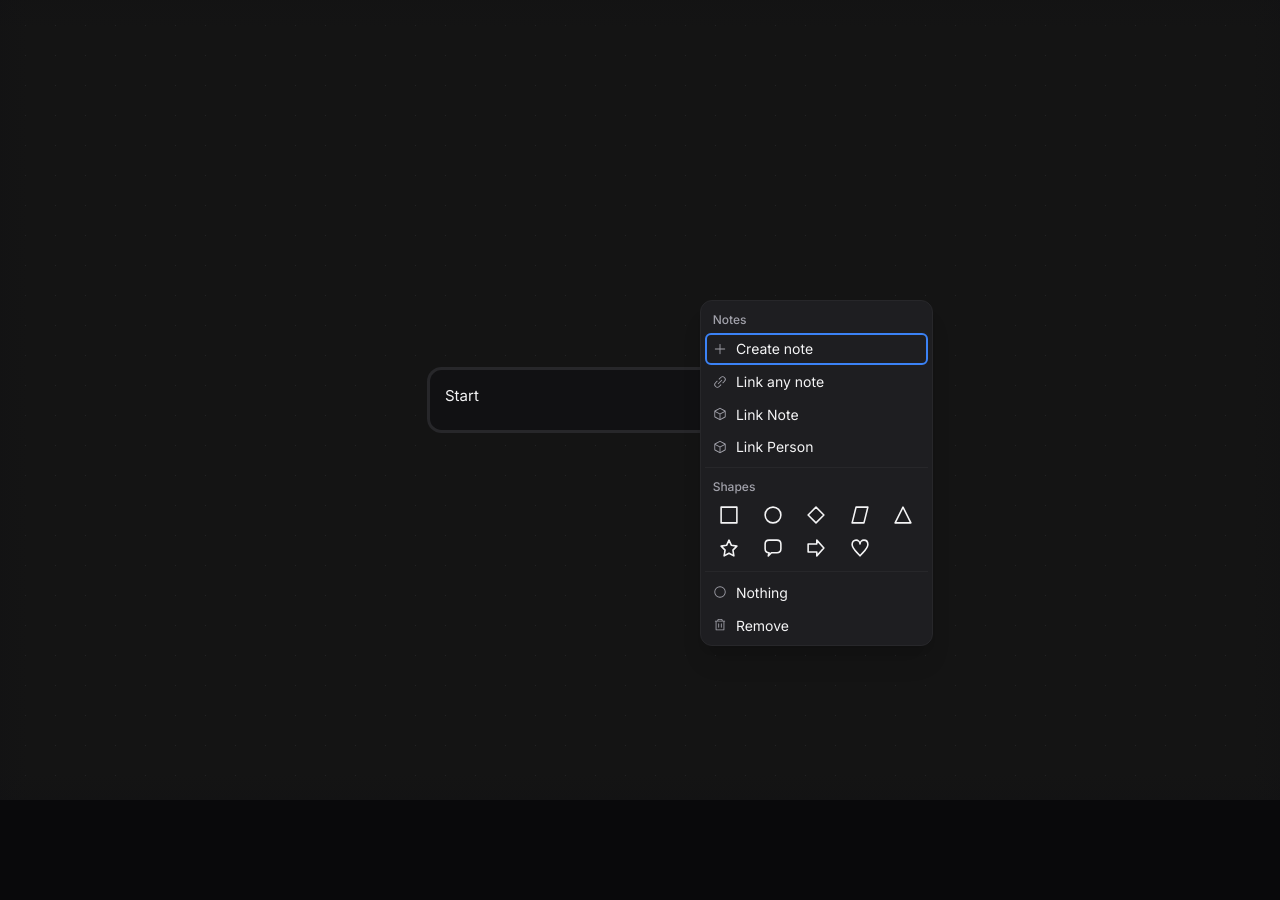
Test: quick-create on a connector drop › test link typed lists only that type and connects the pick
The width and height of the screenshot is (1280, 900).
Later steps or results of the test are not shown.
Click the menu item "Link Person".
click(816, 447)  # box [705,430,928,463]
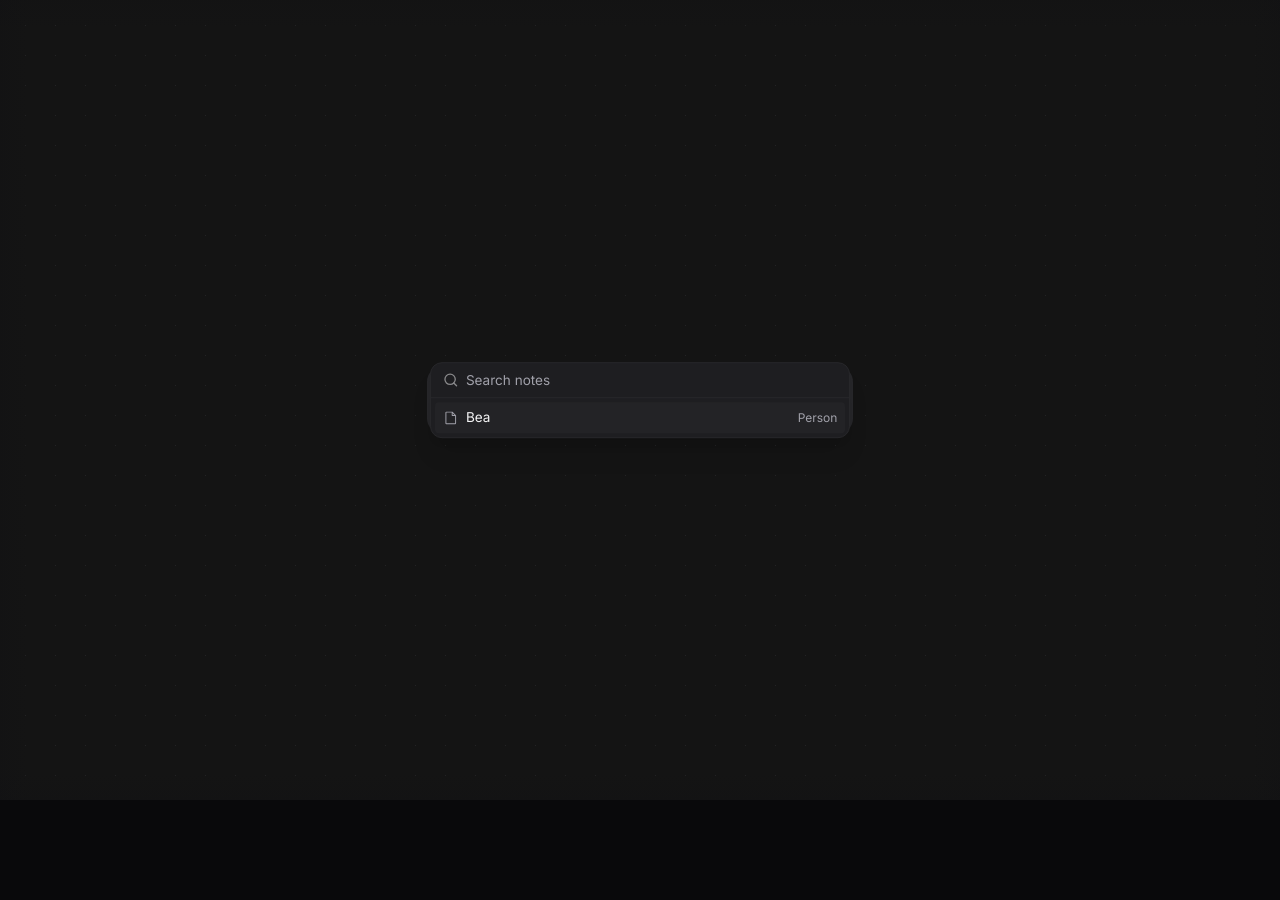
Check: the text "Bea" is shown, box [466,409,490,425]
